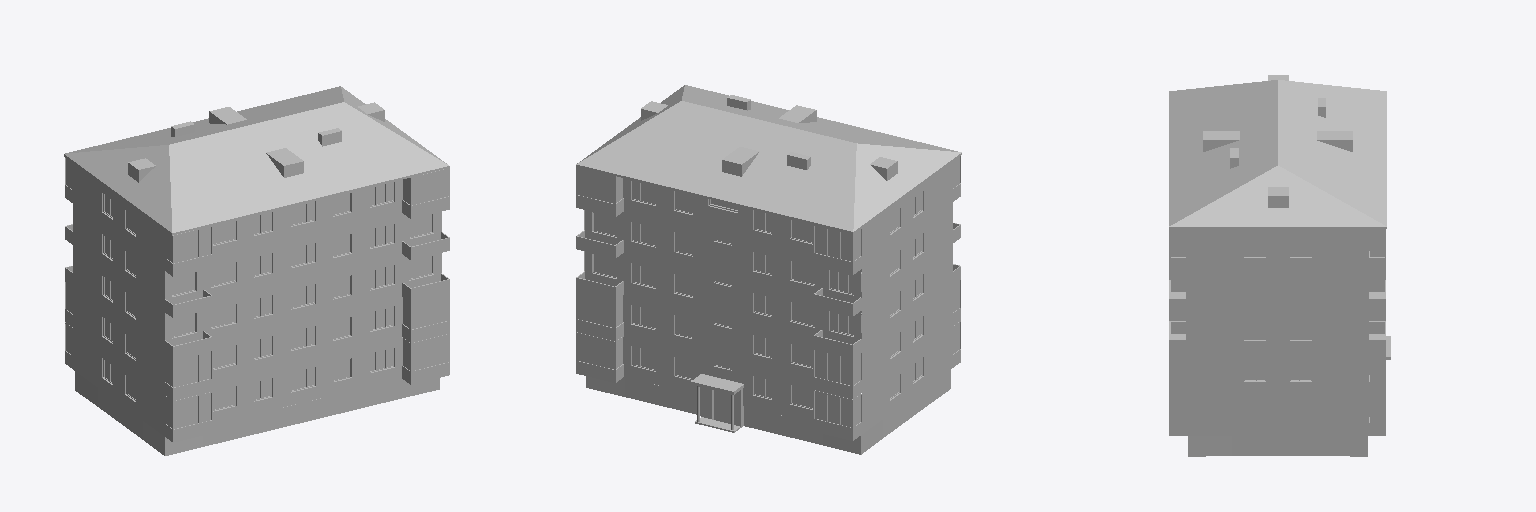
The model's file is edificio7.obj.
The picture shows the model from 3 angles: view 1: azimuth 30°, elevation 25°; view 2: azimuth 150°, elevation 25°; view 3: azimuth 270°, elevation 25°; orthographic projection.
Visible parts, largest first — view 1: 2_011; view 2: 2_011; view 3: 2_011.
Boxes of the visible parts, x1,y1,x2,y2 form: 2_011: [64, 86, 449, 455]; 2_011: [576, 85, 961, 454]; 2_011: [1169, 75, 1390, 456].
Bounding box in the file's own units: 1078 × 989 × 744.